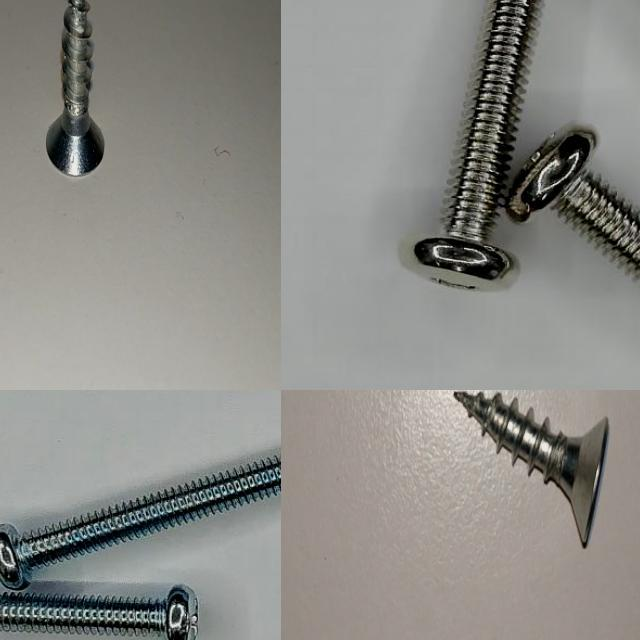Screw: (0, 453, 281, 591), (414, 0, 542, 280), (454, 390, 609, 547), (505, 128, 640, 276), (0, 587, 197, 640), (46, 0, 104, 176)
